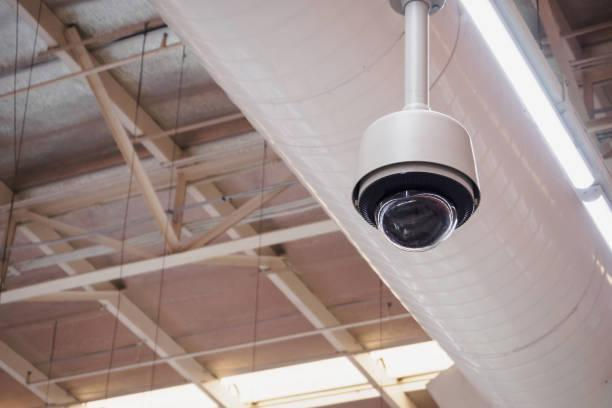camera: (308, 90, 519, 280)
